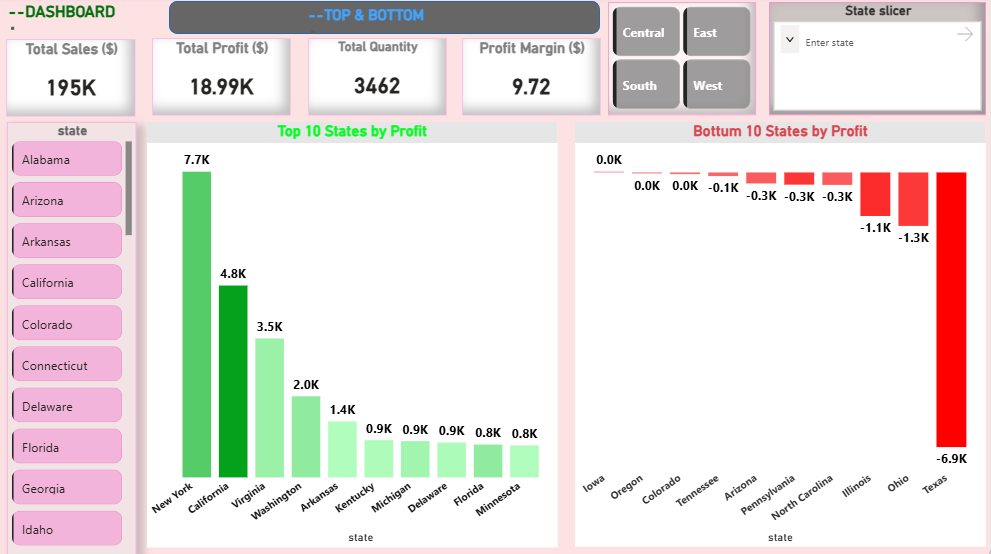

What the dashboard file says about the page in this screenshot:
{"tool":"powerbi","page":{"name":"TOP/BOTTOM ","canvas":[1280,720],"ordinal":2},"visuals":[{"type":"card","title":"Profit Margin ($)","fields":{"Values":["Big_Market_Sales_DATA module 6.Profit Margin %"]},"box":[598.6,52.9,178.6,100],"z":0},{"type":"card","title":"Total Quantity","fields":{"Values":["Sum(Big_Market_Sales_DATA module 6.quantity)"]},"box":[400,52.9,178.6,100],"z":1000},{"type":"card","title":"Total Profit ($)","fields":{"Values":["Sum(Big_Market_Sales_DATA module 6.profit_$)"]},"box":[198.6,52.9,178.6,100],"z":2000},{"type":"card","title":"Total Sales ($)","fields":{"Values":["Sum(Big_Market_Sales_DATA module 6.sales_$)"]},"box":[10,54.3,167.1,100],"z":3000},{"type":"advancedSlicerVisual","fields":{"Values":["Big_Market_Sales_DATA module 6.region"]},"box":[787.1,2.9,191.4,150],"z":4000},{"type":"textSlicer","title":"State slicer ","fields":{"Values":["Big_Market_Sales_DATA module 6.state"]},"box":[1000,2.9,280,150],"z":5000},{"type":"advancedSlicerVisual","fields":{"Values":["Big_Market_Sales_DATA module 6.state"]},"box":[11.4,161.4,167.1,558.6],"z":6000},{"type":"clusteredColumnChart","title":"Top 10 States by Profit","fields":{"Category":["Big_Market_Sales_DATA module 6.state"],"Y":["Sum(Big_Market_Sales_DATA module 6.profit_$)"]},"box":[192.9,161.4,530,548.6],"z":7000},{"type":"clusteredColumnChart","title":"Bottum 10 States by Profit","fields":{"Category":["Big_Market_Sales_DATA module 6.state"],"Y":["Sum(Big_Market_Sales_DATA module 6.profit_$)"]},"box":[750,161.4,530,548.6],"z":8000},{"type":"actionButton","title":"--DASHBOARD","box":[12.9,2.9,161.4,40],"z":9000},{"type":"shape","title":"TOP  &  BOTTOM","box":[220,0,557.1,42.9],"z":10000},{"type":"actionButton","title":"--TOP & BOTTOM","box":[400,2.6,161.3,40],"z":10001}]}

Visuals, with their boxes in screenshot pixels (x1, y1, x2, y2), scaled from the page's 1280x720 canvas onto the 991x554 screenshot:
"Profit Margin ($)" card: crop(463, 41, 602, 118)
"Total Quantity" card: crop(310, 41, 448, 118)
"Total Profit ($)" card: crop(154, 41, 292, 118)
"Total Sales ($)" card: crop(8, 42, 137, 119)
advancedSlicerVisual - Big_Market_Sales_DATA module 6.region: crop(609, 2, 758, 118)
"State slicer " textSlicer: crop(774, 2, 990, 118)
advancedSlicerVisual - Big_Market_Sales_DATA module 6.state: crop(9, 124, 138, 553)
"Top 10 States by Profit" clusteredColumnChart: crop(149, 124, 560, 546)
"Bottum 10 States by Profit" clusteredColumnChart: crop(581, 124, 990, 546)
"--DASHBOARD" actionButton: crop(10, 2, 135, 33)
"TOP  &  BOTTOM" shape: crop(170, 0, 602, 33)
"--TOP & BOTTOM" actionButton: crop(310, 2, 435, 33)
